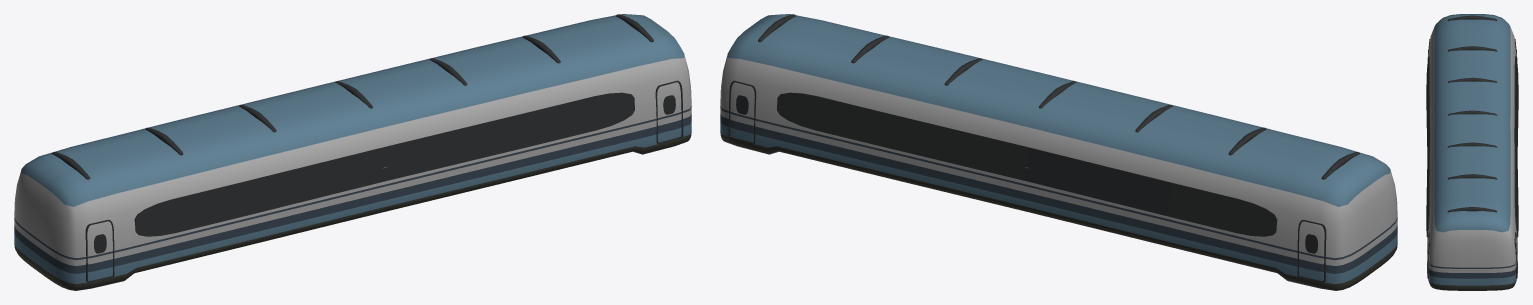
The model's file is train-wagon.glb.
The picture shows the model from 3 angles, left to right: view 1: azimuth 30°, elevation 25°; view 2: azimuth 150°, elevation 25°; view 3: azimuth 270°, elevation 25°; orthographic projection. The views are drawn at different scales.
Visible parts, largest first — view 1: HighspeedTrain_Wagon; view 2: HighspeedTrain_Wagon; view 3: HighspeedTrain_Wagon.
Part boxes in pixels (x1,y1,x2,y2): HighspeedTrain_Wagon: (14,14,691,290); HighspeedTrain_Wagon: (720,14,1397,290); HighspeedTrain_Wagon: (1426,14,1518,290).
Bounding box in the file's own units: 11.18 × 1.9 × 2.03.
Materials: 1 (1 with a texture image).
